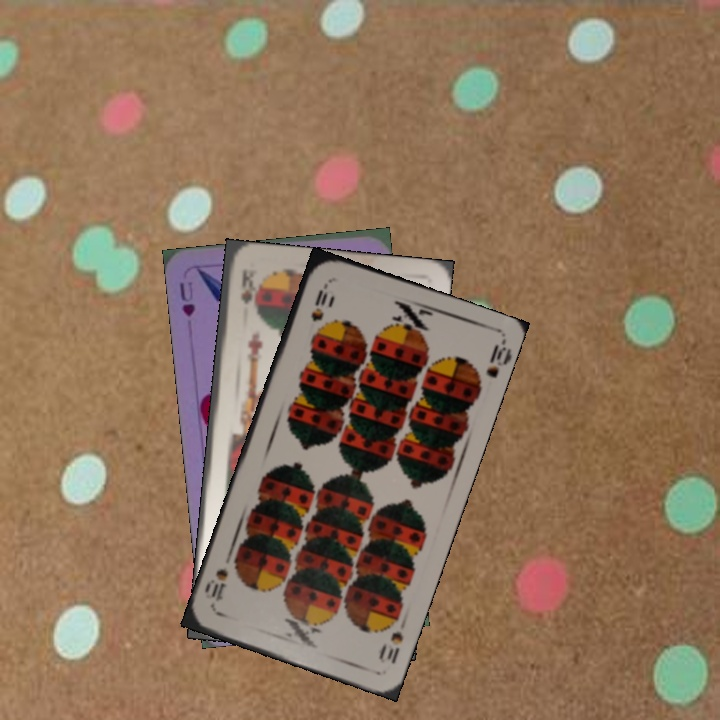HU: (175, 277, 198, 319)
S10: (375, 613, 410, 667), (306, 279, 331, 324)
SK: (236, 266, 257, 307)
